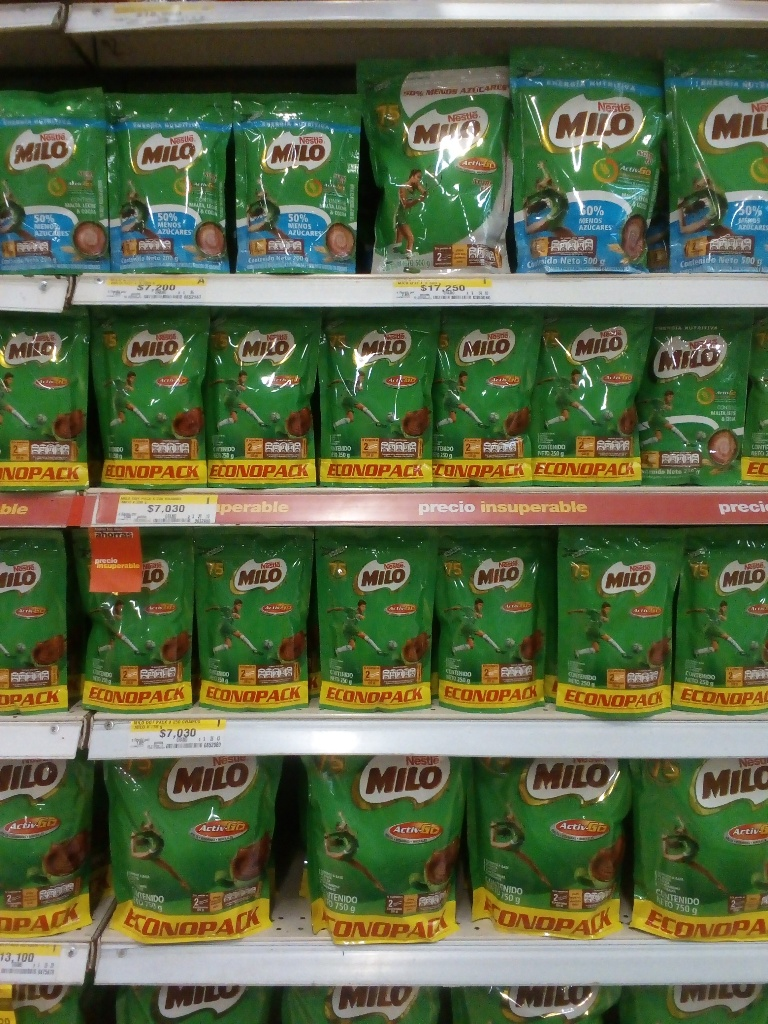COL0170203DYP25000: (77, 531, 193, 706)
COL0170203DYP50000: (366, 53, 506, 272)
COL0170205DYP20000: (2, 88, 115, 274)
COL0170205DYP50000: (513, 47, 657, 272)
